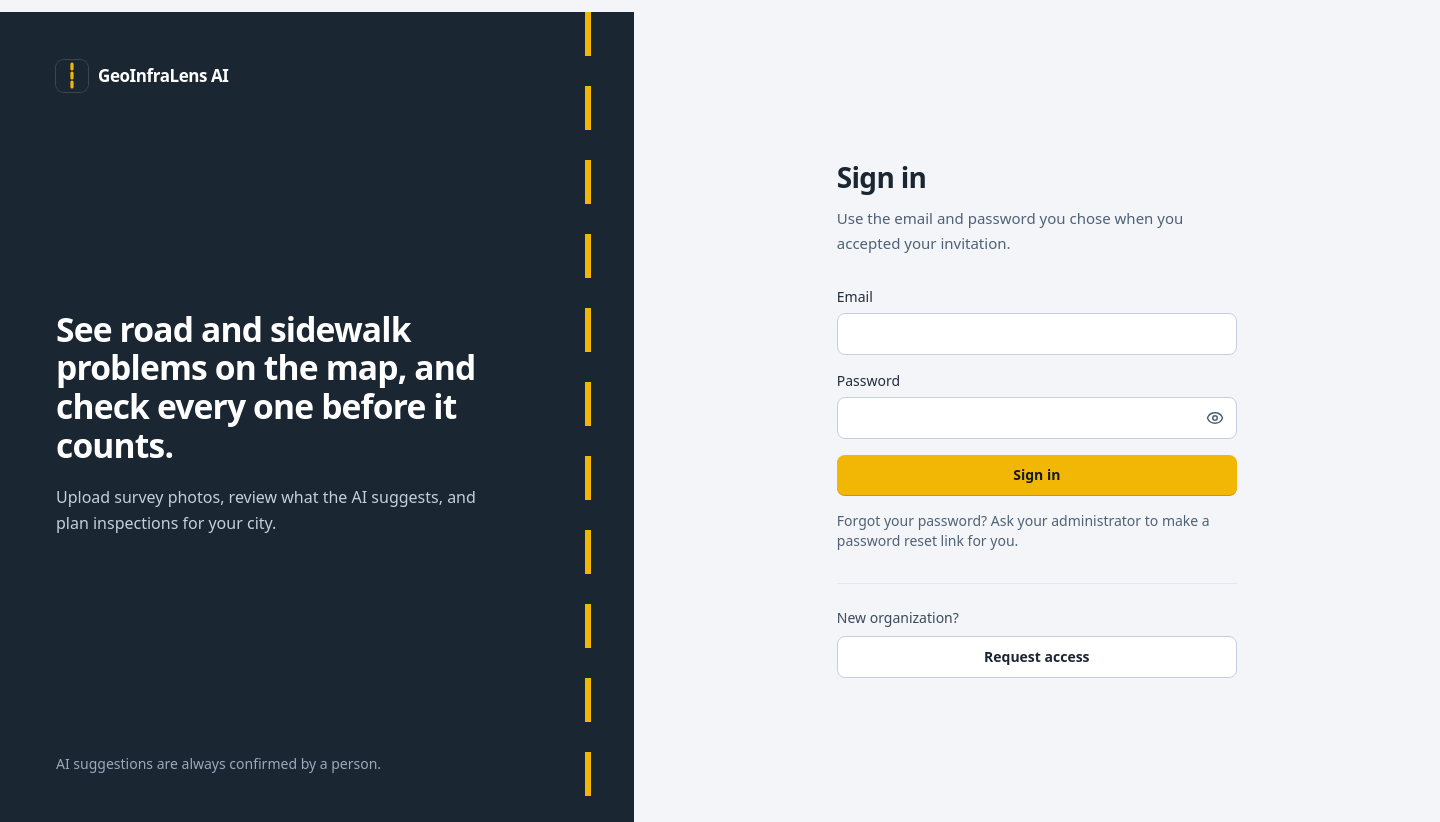
Test case: SignInPage › shows the server message for wrong credentials and keeps the email
The width and height of the screenshot is (1440, 822).
In the field labelled "Email": (1037, 334) [837,313,1237,355], type "ada@city.test"
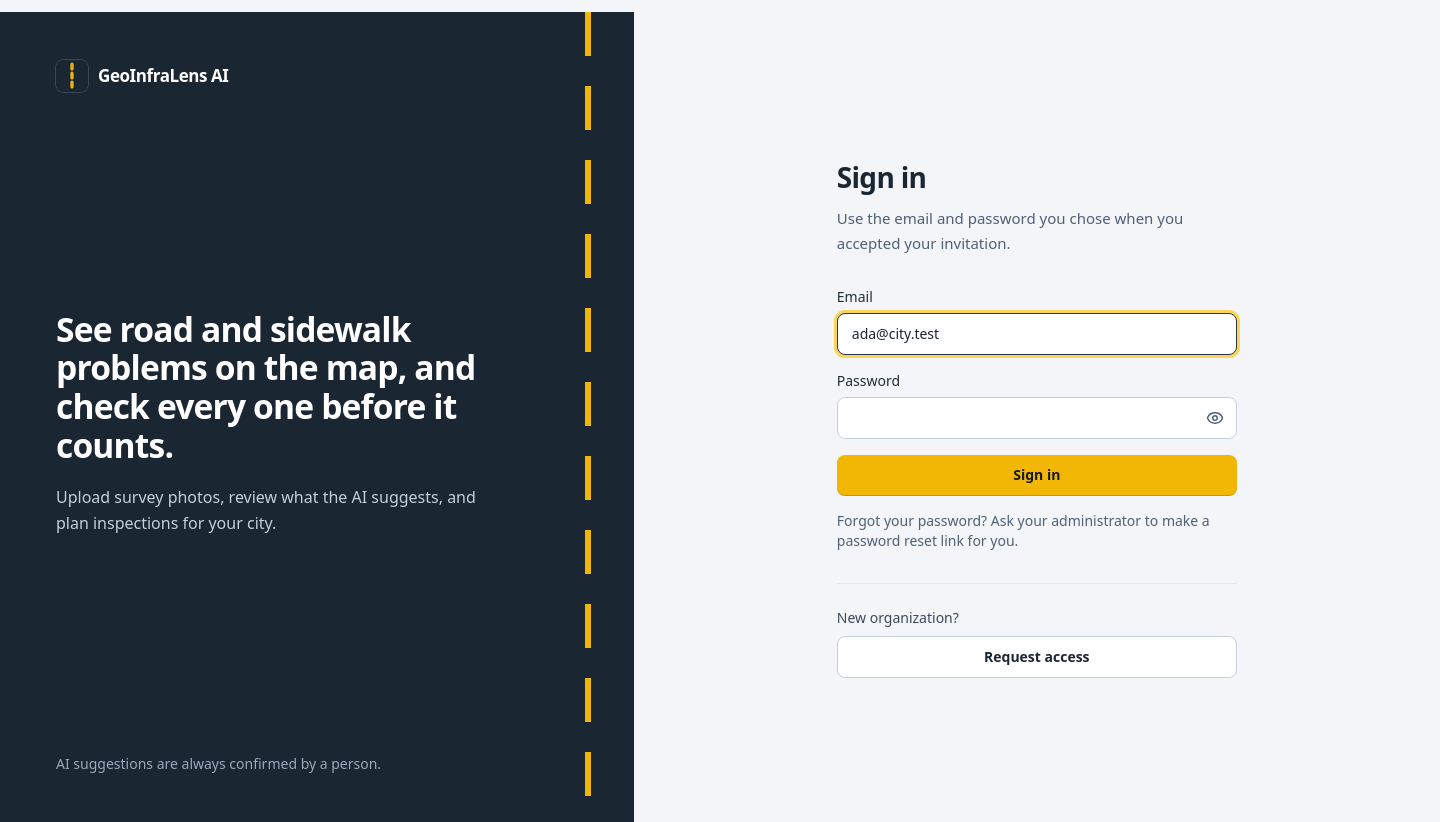
In the password field labelled "Password": (1037, 418) [837,397,1237,439], type "wrong-password"
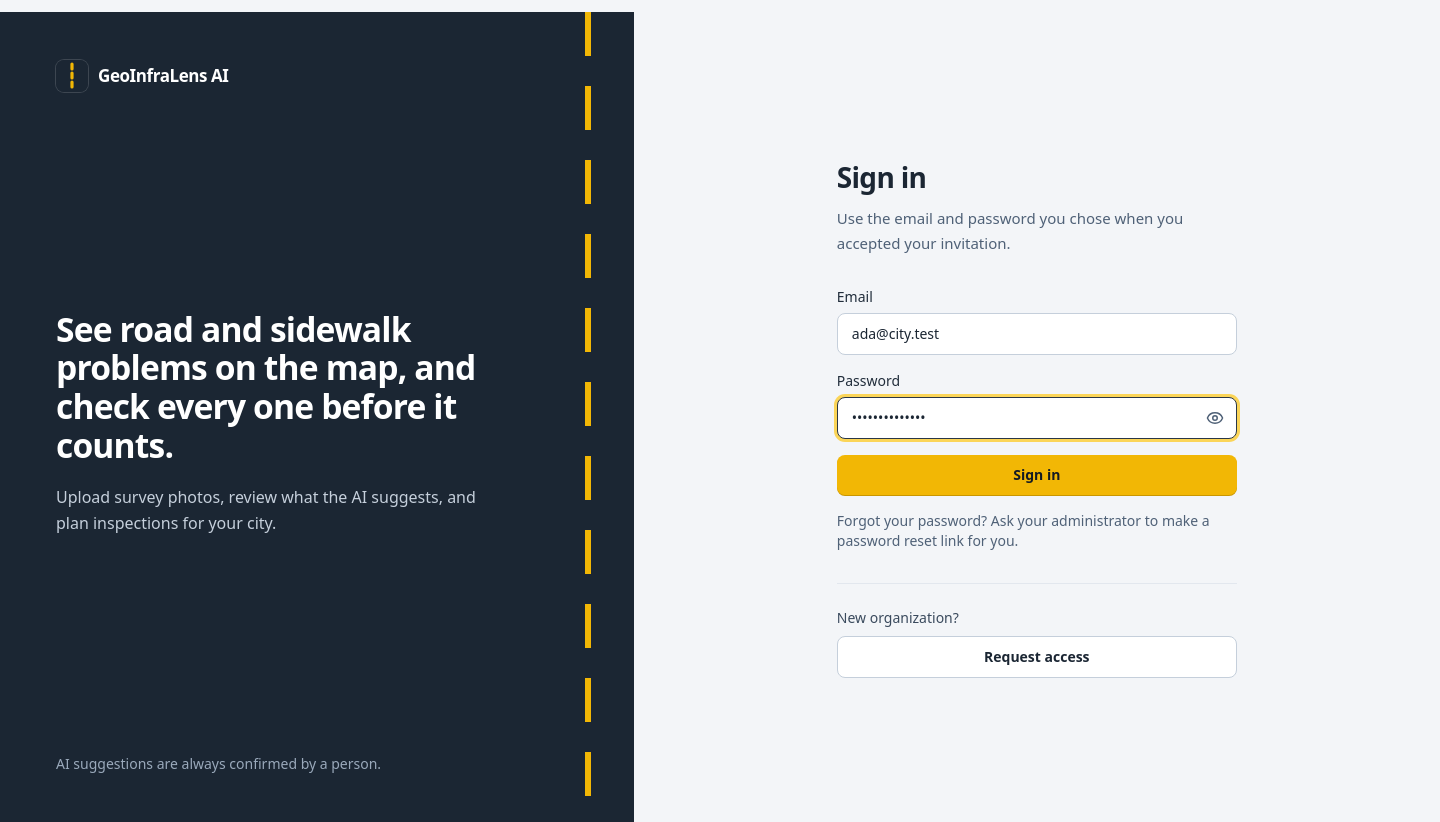
Click the button "Sign in": (1037, 475) [837,455,1237,495]
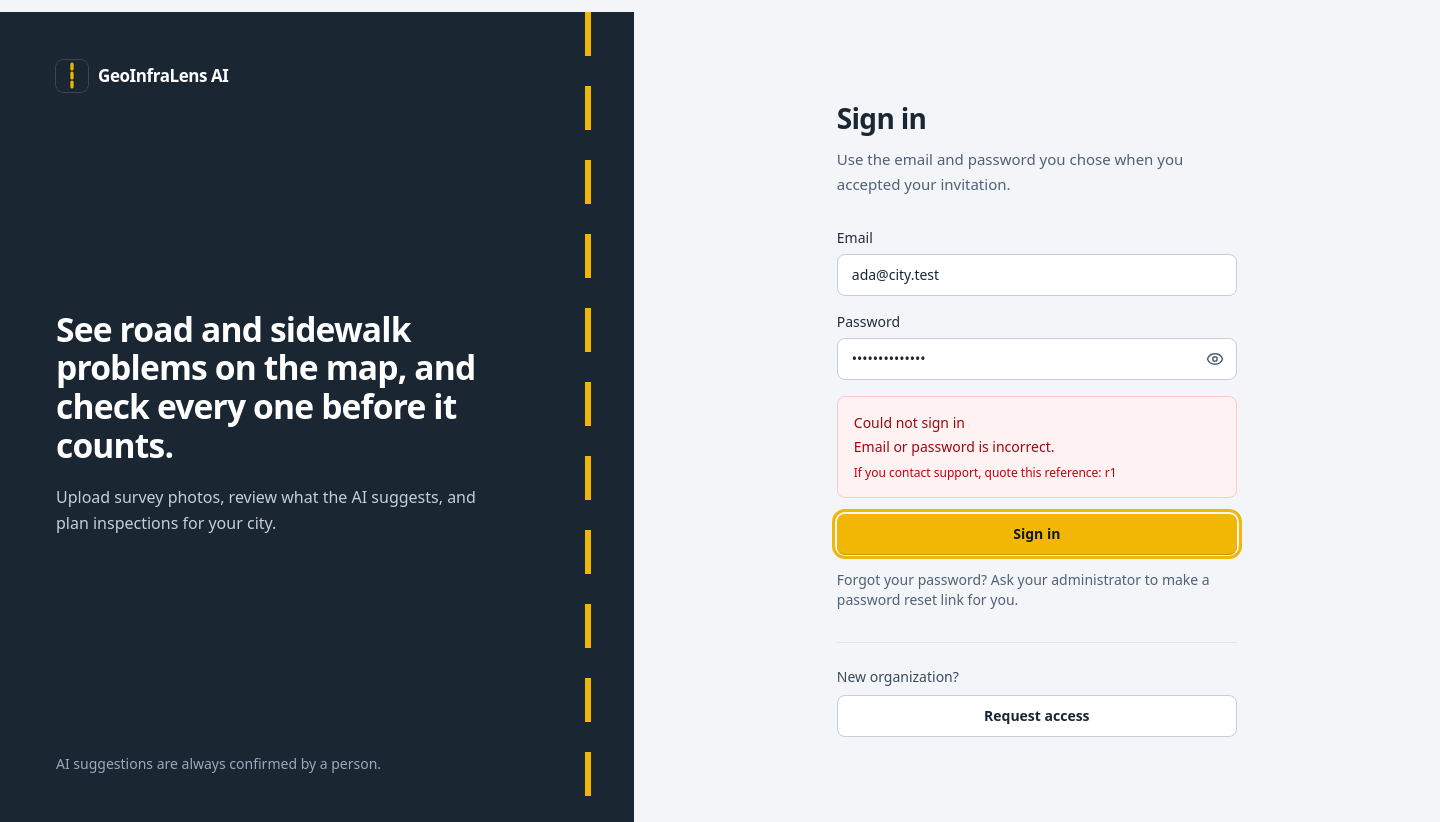
Expected: the message shows "Email or password is incorrect.", [854,437,1054,456]
